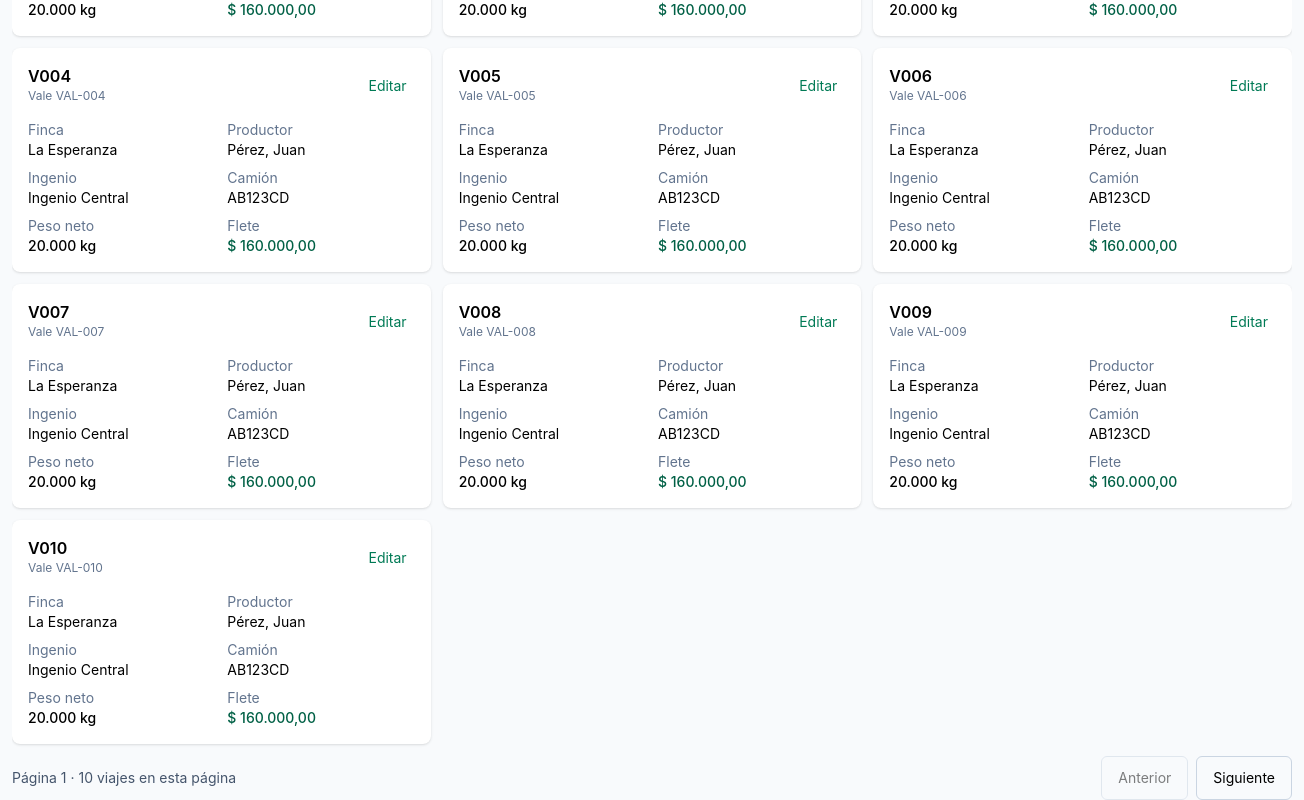
Scenario: MisViajesPage › pagina de a 10 viajes y detecta la página siguiente
(page scrolled)
Expected: the text "Página 1 · 10 viajes en esta página" is shown, [12,768,236,788]
Click the button "Siguiente". click: {"x": 1244, "y": 778}
box: [1196,756,1292,799]
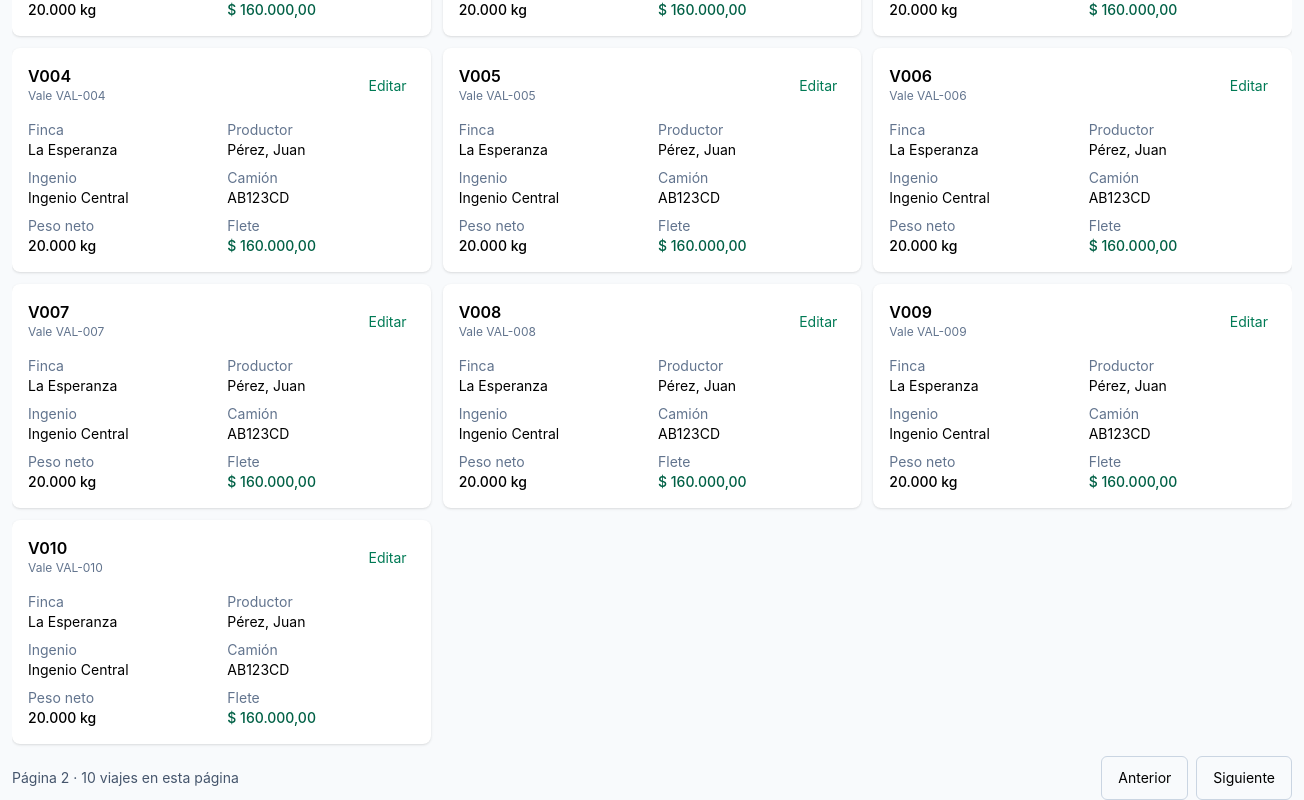
Expected: the text "Página 2 · 10 viajes en esta página" is shown, [12,768,239,788]
